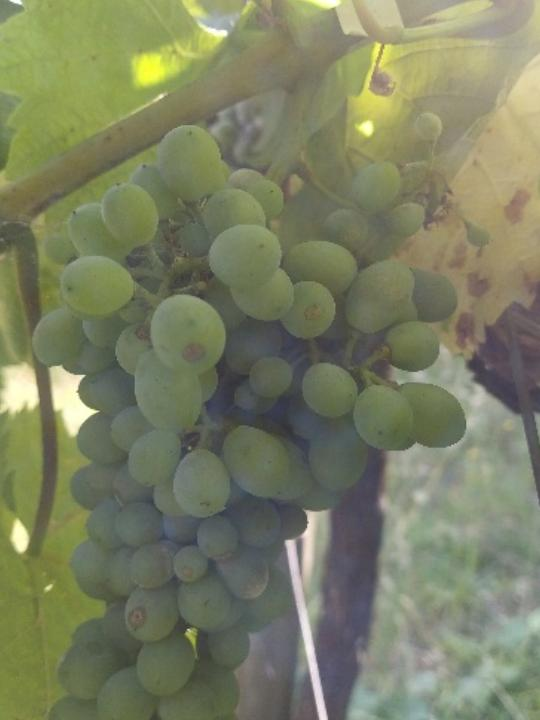grape: (23, 100, 478, 720)
